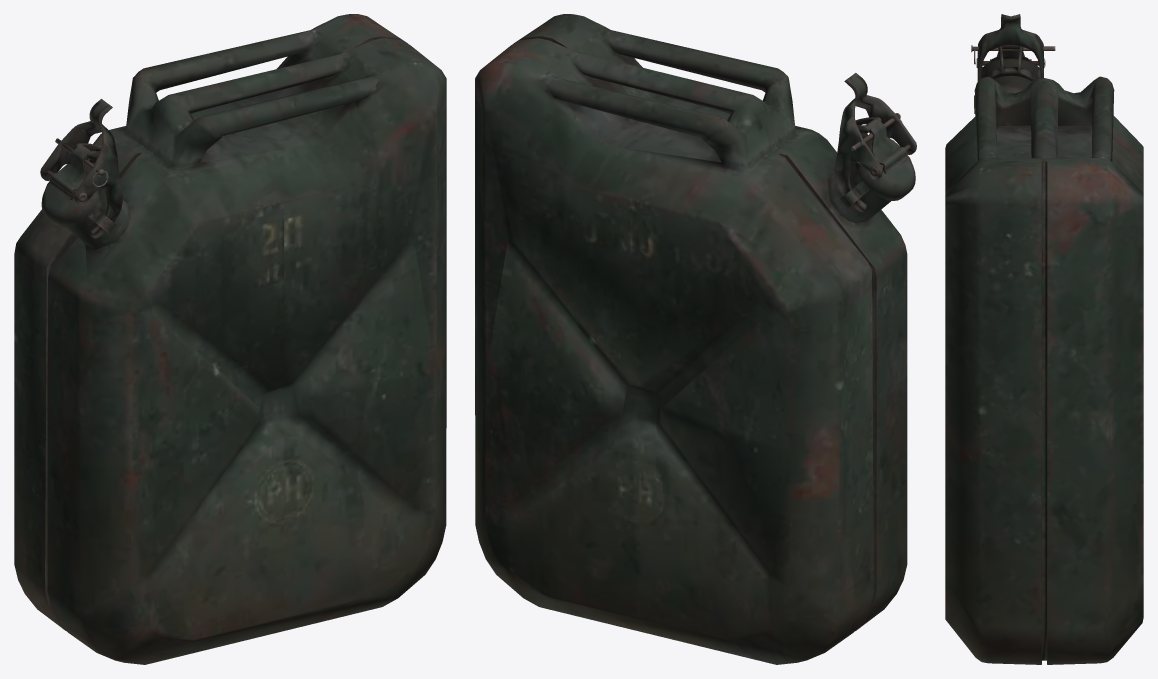
Rendered from jerrycan.glb.
The picture shows the model from 3 angles, left to right: view 1: azimuth 30°, elevation 25°; view 2: azimuth 150°, elevation 25°; view 3: azimuth 270°, elevation 25°; orthographic projection. The views are drawn at different scales.
Parts seen in each view (by area): view 1: metal_jerrycan_green_body, metal_jerrycan_green_latch, metal_jerrycan_green_cap; view 2: metal_jerrycan_green_body, metal_jerrycan_green_latch, metal_jerrycan_green_cap; view 3: metal_jerrycan_green_body, metal_jerrycan_green_latch, metal_jerrycan_green_cap, metal_jerrycan_green_fastener.
Boxes of the visible parts, x1,y1,x2,y2 form: metal_jerrycan_green_body: (14, 14, 446, 664); metal_jerrycan_green_latch: (40, 99, 122, 238); metal_jerrycan_green_cap: (41, 144, 101, 227); metal_jerrycan_green_body: (475, 14, 907, 664); metal_jerrycan_green_latch: (834, 73, 916, 212); metal_jerrycan_green_cap: (855, 118, 915, 200); metal_jerrycan_green_body: (945, 75, 1143, 664); metal_jerrycan_green_latch: (976, 14, 1045, 81); metal_jerrycan_green_cap: (980, 45, 1040, 79); metal_jerrycan_green_fastener: (989, 46, 1032, 80).
Bounding box in the file's own units: 0.3604 × 0.4998 × 0.1709.
Materials: 1 (1 with a texture image).
